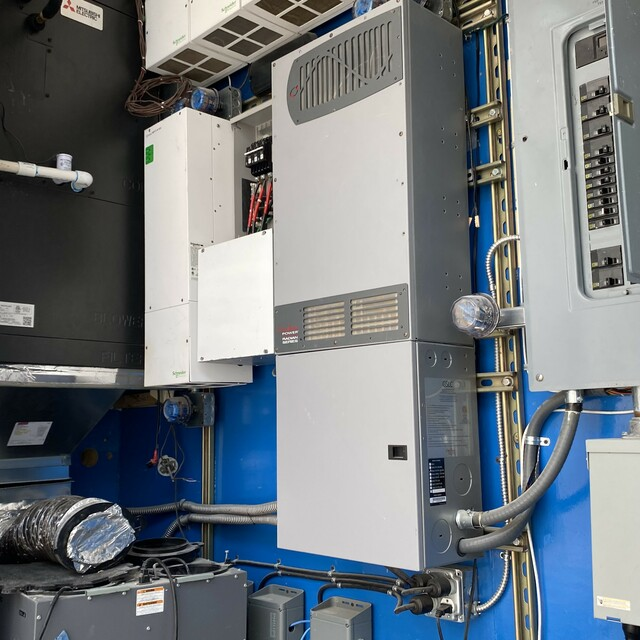inverter: (252, 1, 484, 582)
